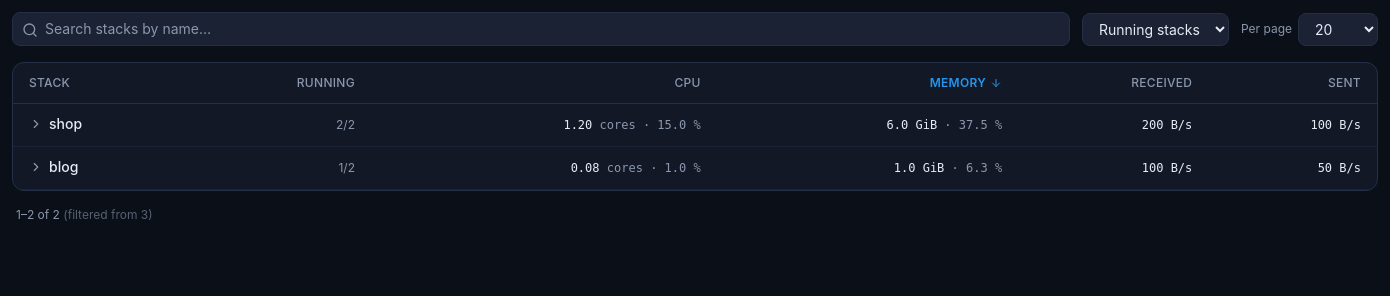
Test case: StacksTab › the disclosure is a real button that exposes its state and toggles exactly once
Click the button "shop": (56, 124) [29,114,82,134]
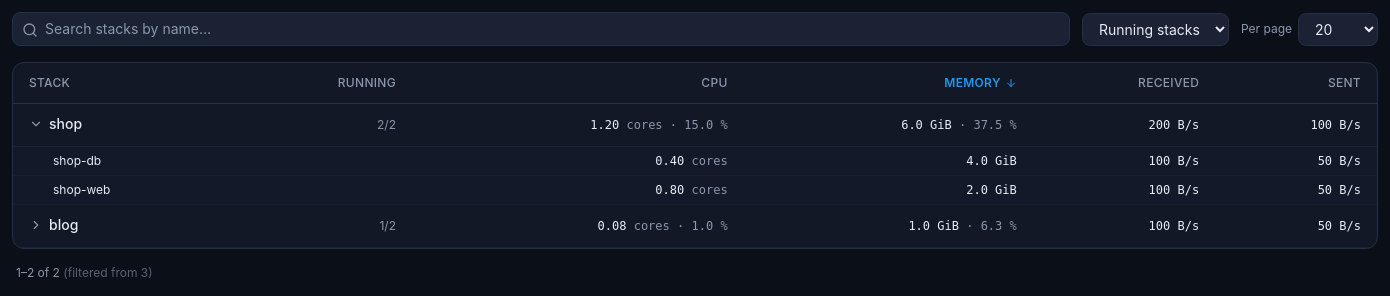
expect the button "shop" is expanded: met
expect the text "shop-db" is shown: met, box [53,153,101,168]
Click the button "shop": (56, 124) [29,114,82,134]
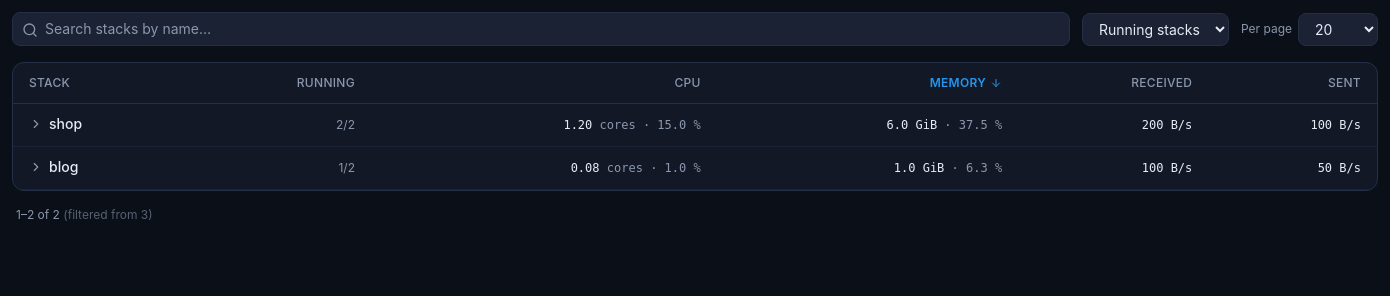
expect the button "shop" is collapsed: met, box [29,114,82,134]
expect the text "shop-db" is gone: met
